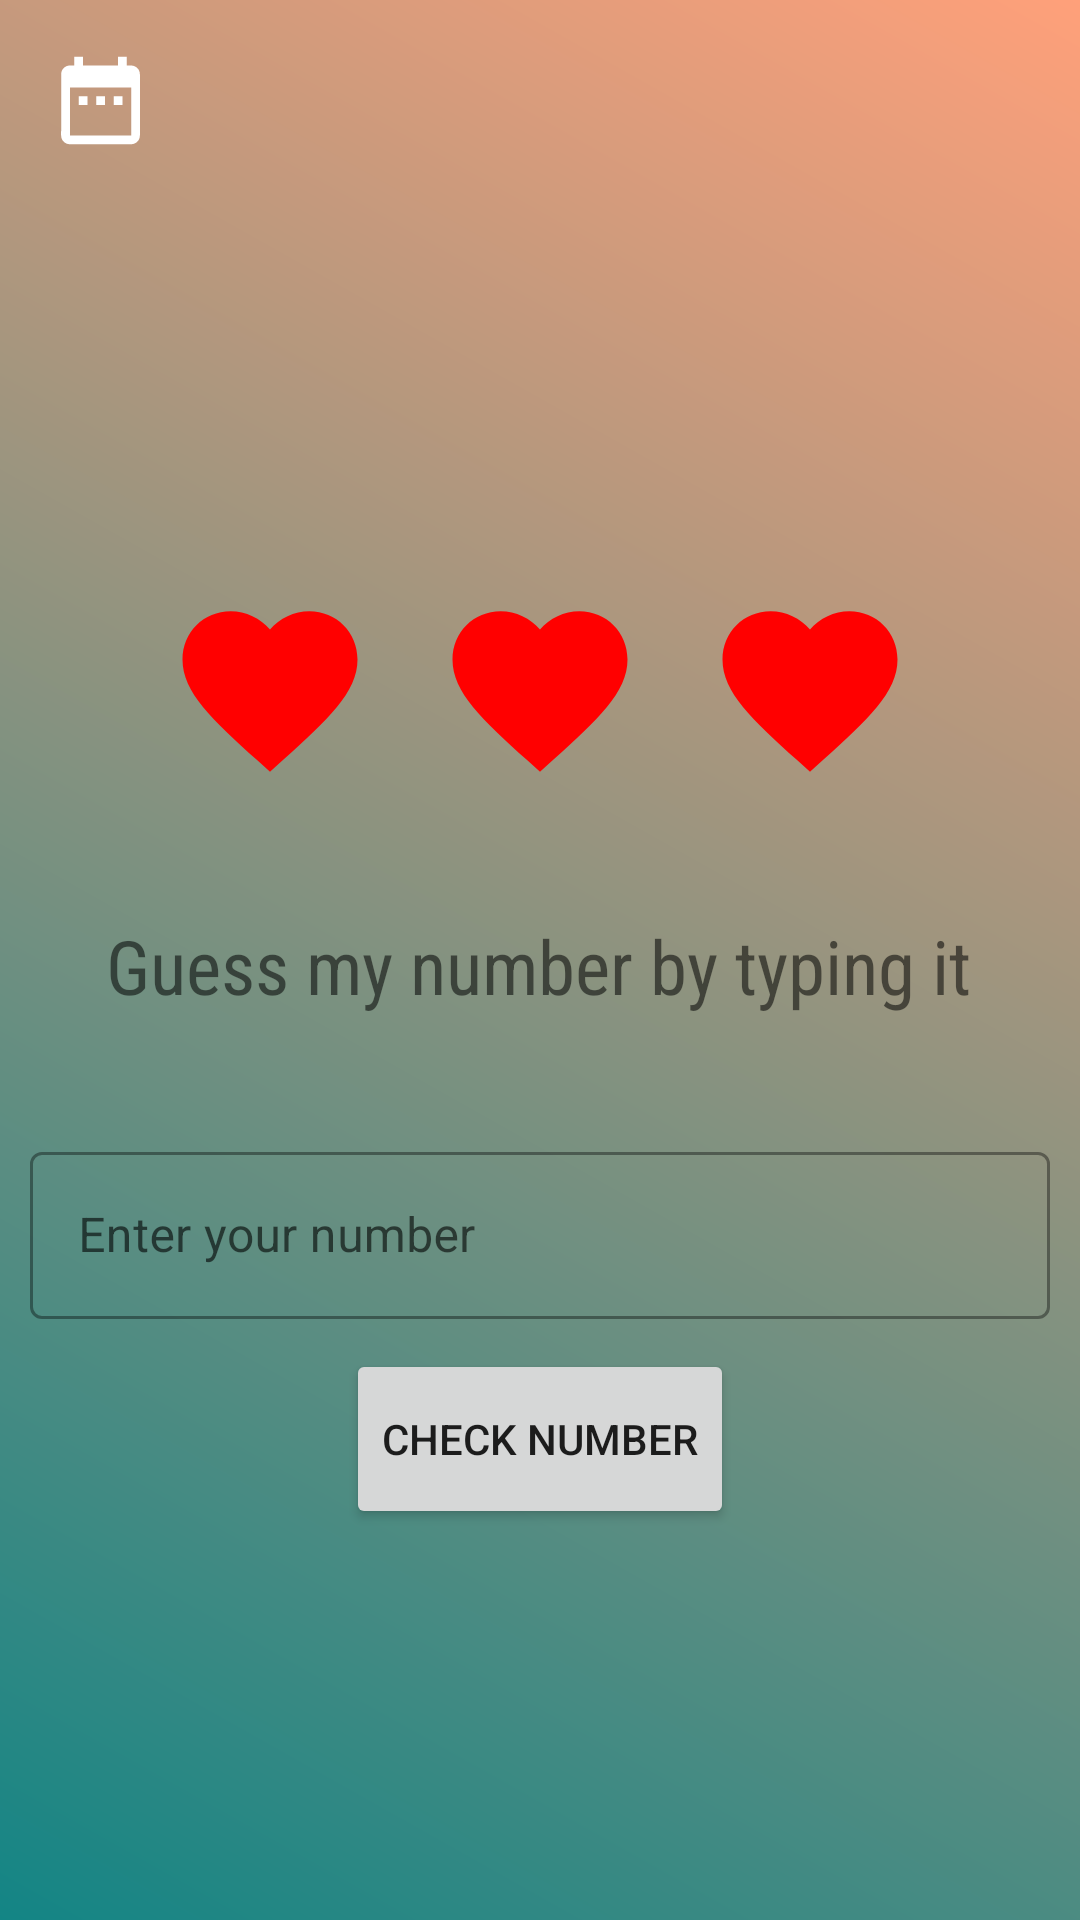

Icon click points for this 1080×1920 phone screenshot, format (x,y):
date range: (100,100)
favorite: (270,691), (540,691), (810,691)
